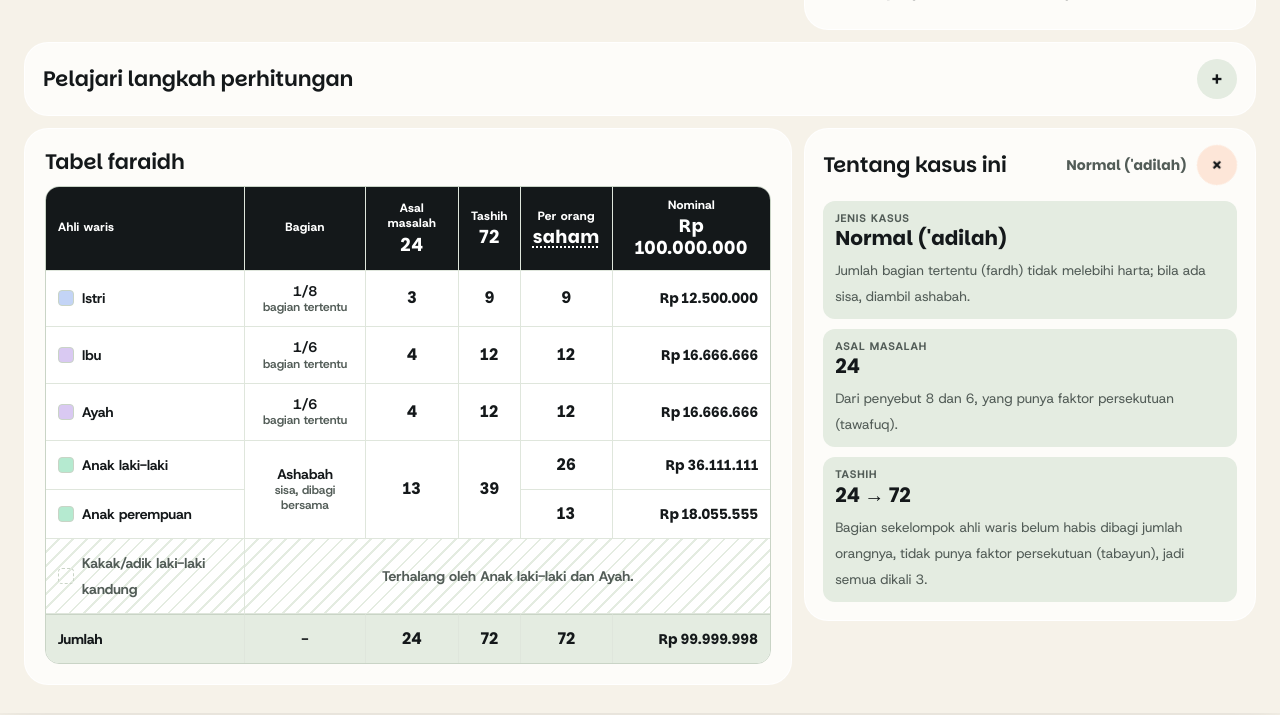
layar hasil › klik baris di tabel faraidh juga membuka penjelasan orang itu
(page scrolled)
Click the text "Ibu" at point(408, 356), box 46,327 -> 770,384
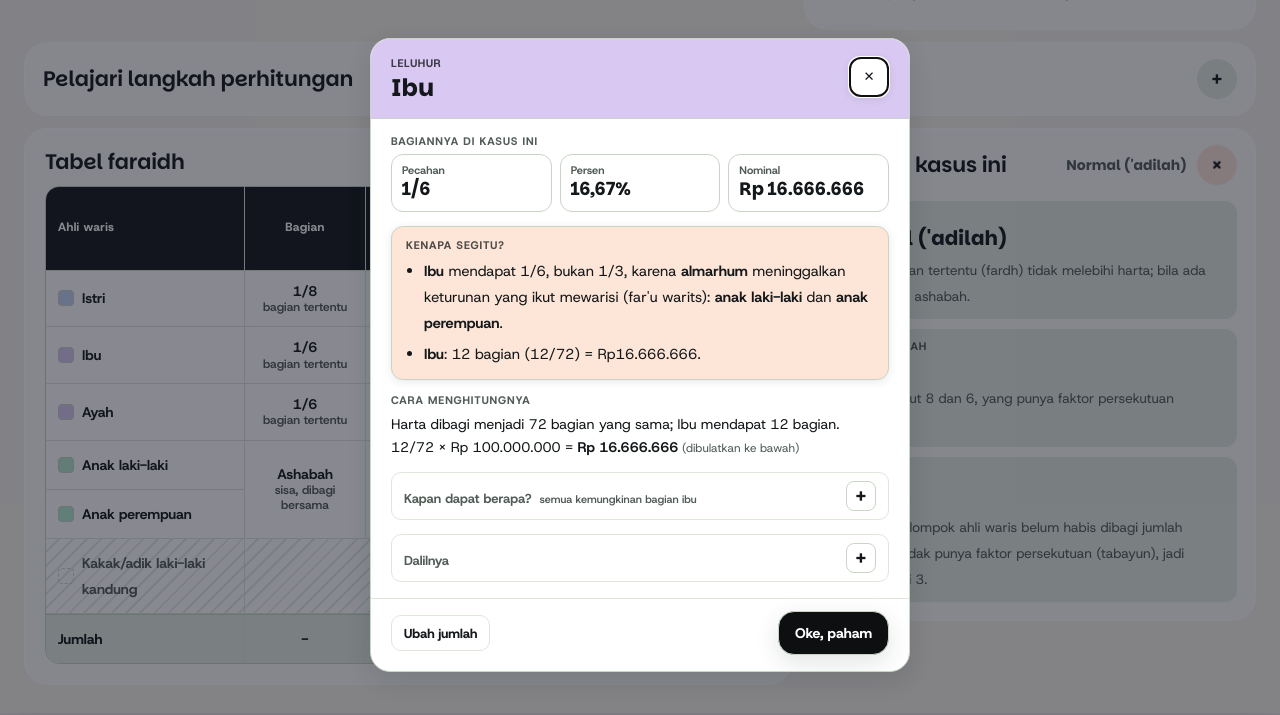
Now the heading "Ibu" is shown, box 391,71 -> 434,104
